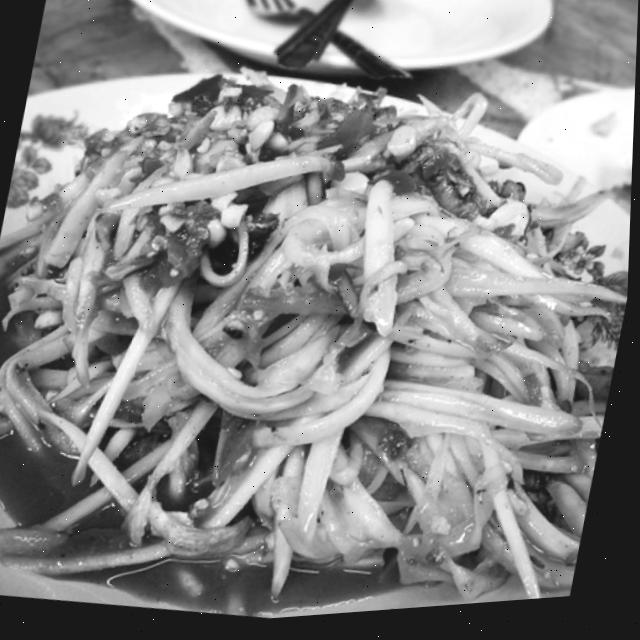蔬菜料理: (0, 22, 638, 640)
